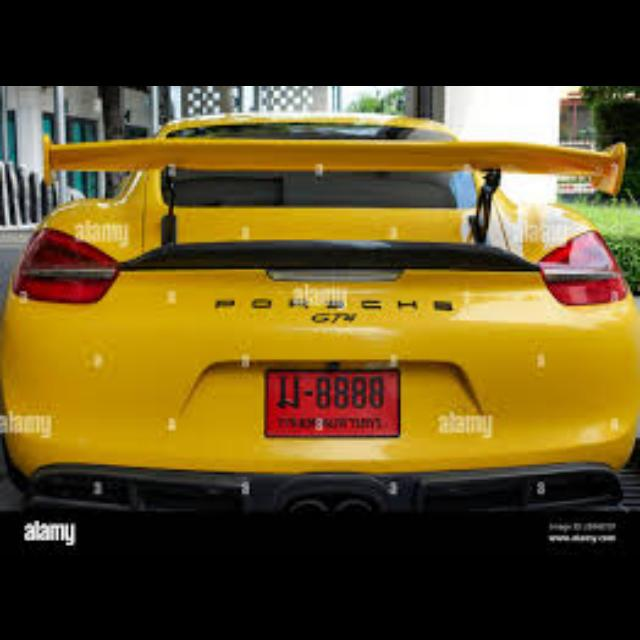licenseplate: (262, 366, 403, 439)
